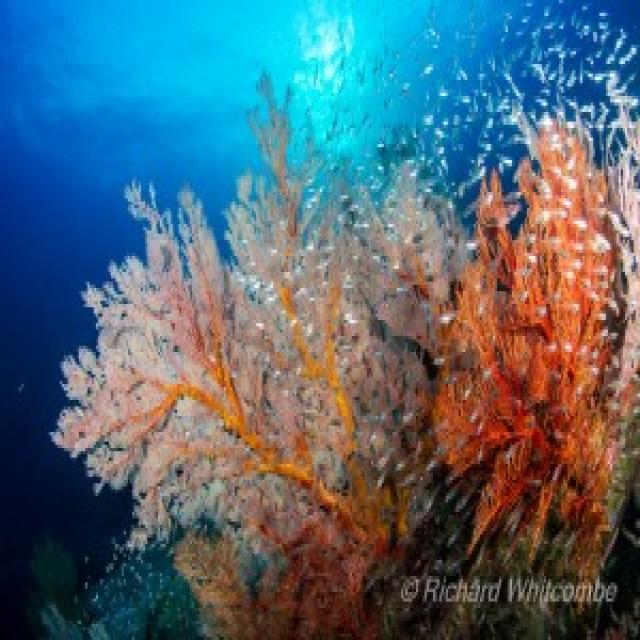Healthy: (52, 78, 443, 638), (434, 119, 622, 564)
